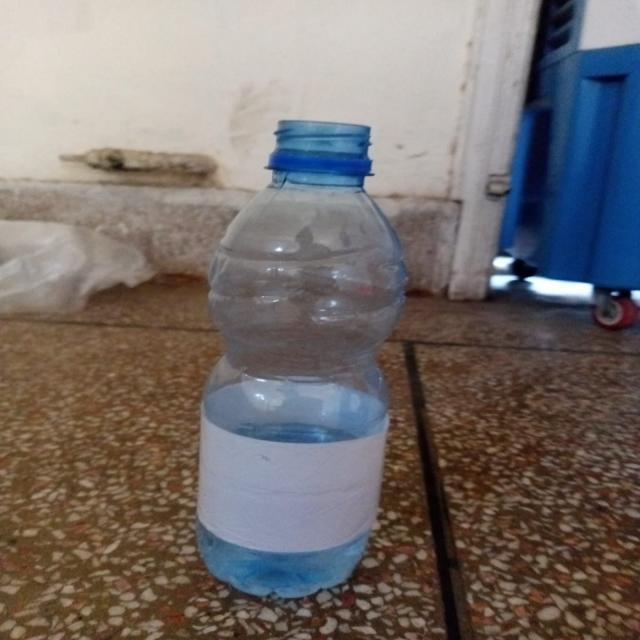bottle: (195, 110, 401, 595)
label: (192, 404, 402, 556)
